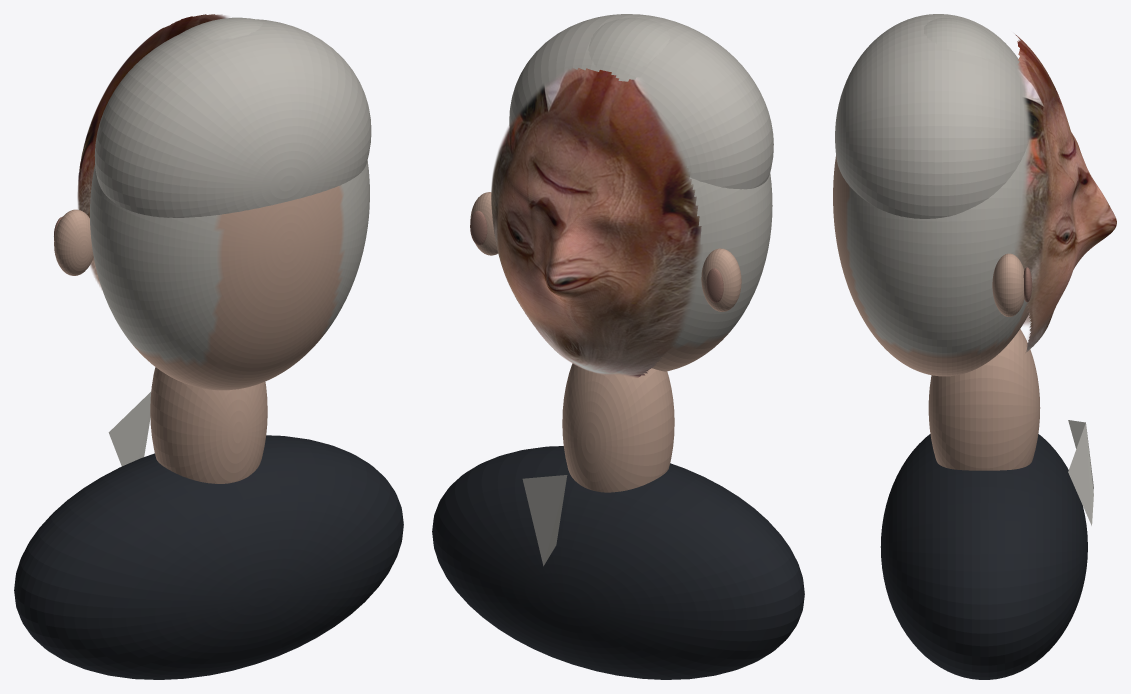
File: rutger_hauer_reconstruction_v2.glb
The picture shows the model from 3 angles, left to right: view 1: azimuth 30°, elevation 25°; view 2: azimuth 150°, elevation 25°; view 3: azimuth 270°, elevation 25°; orthographic projection. The views are drawn at different scales.
Parts seen in each view (by area): view 1: Black_jacket_shoulders, Head_base, Silver_hair_cranium, Neck, Photographic_face_surface, Left_ear, Left_collar; view 2: Black_jacket_shoulders, Photographic_face_surface, Silver_hair_cranium, Head_base, Neck, Right_collar, Left_ear, Right_ear; view 3: Black_jacket_shoulders, Silver_hair_cranium, Head_base, Photographic_face_surface, Neck, Right_ear, Right_collar.
Part boxes in pixels (x1,y1,x2,y2): Black_jacket_shoulders: (14, 435, 403, 679); Head_base: (90, 17, 369, 390); Silver_hair_cranium: (94, 19, 371, 217); Neck: (150, 367, 267, 483); Photographic_face_surface: (77, 14, 229, 289); Left_ear: (54, 209, 93, 275); Left_collar: (108, 391, 151, 466); Black_jacket_shoulders: (432, 446, 804, 679); Photographic_face_surface: (491, 68, 701, 377); Silver_hair_cranium: (509, 14, 773, 189); Head_base: (588, 18, 772, 371); Neck: (562, 363, 674, 492); Right_collar: (522, 475, 567, 566); Left_ear: (701, 248, 741, 311); Right_ear: (470, 192, 498, 255); Black_jacket_shoulders: (880, 434, 1087, 679); Silver_hair_cranium: (835, 14, 1031, 218); Head_base: (833, 17, 1032, 376); Photographic_face_surface: (1014, 33, 1116, 352); Neck: (928, 329, 1040, 470); Right_ear: (992, 253, 1024, 316); Right_collar: (1068, 423, 1093, 525).
Size of the model in its own units: 2.06 by 3.44 by 1.43.
Materials: 1 (1 with a texture image).
